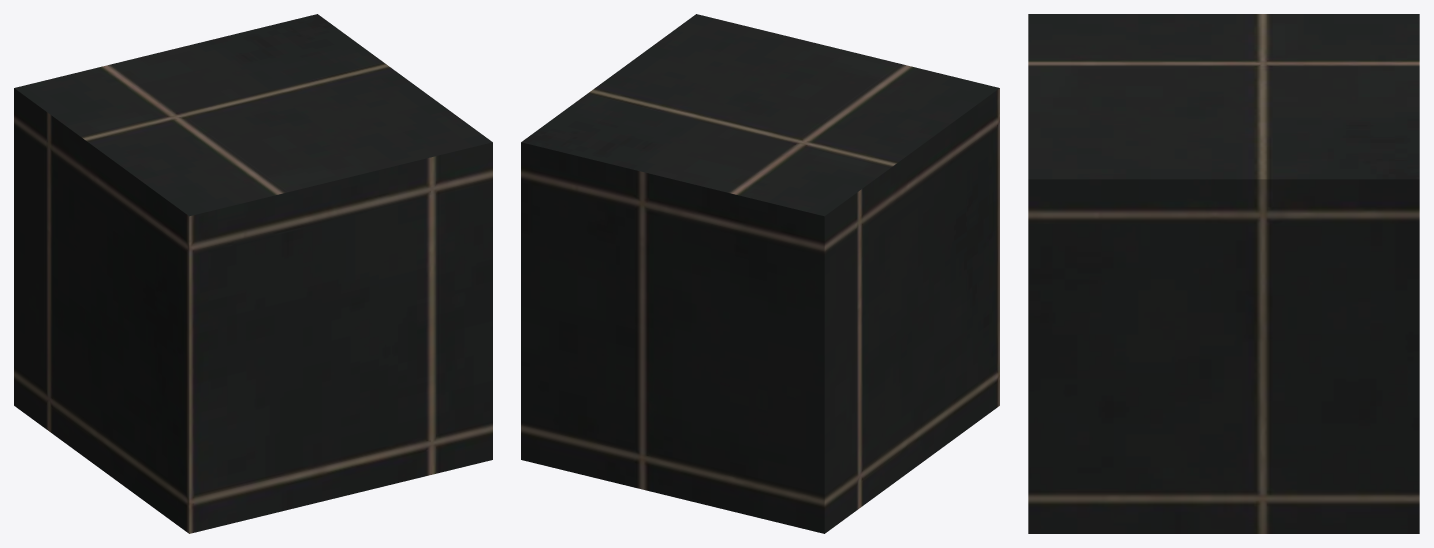
The model's file is table5.glb.
3 views of the same model, side by side, from view 1: azimuth 30°, elevation 25°; view 2: azimuth 150°, elevation 25°; view 3: azimuth 270°, elevation 25° (orthographic). The views are drawn at different scales.
Parts seen in each view (by area): view 1: Cube.002; view 2: Cube.002; view 3: Cube.002.
Boxes of the visible parts, x1,y1,x2,y2 form: Cube.002: [14, 14, 492, 533]; Cube.002: [521, 14, 999, 533]; Cube.002: [1028, 14, 1419, 533].
Bounding box in the file's own units: 929 × 929 × 929.
15 materials, 8 textured.
